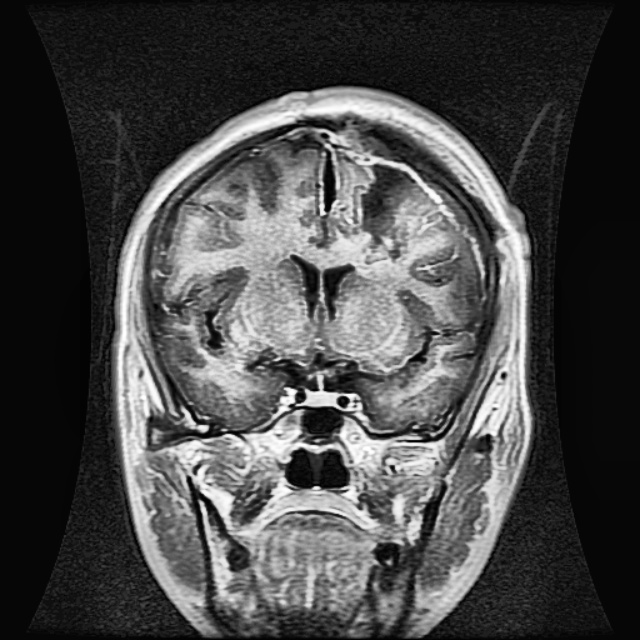Meningioma: (347, 158, 413, 244)
